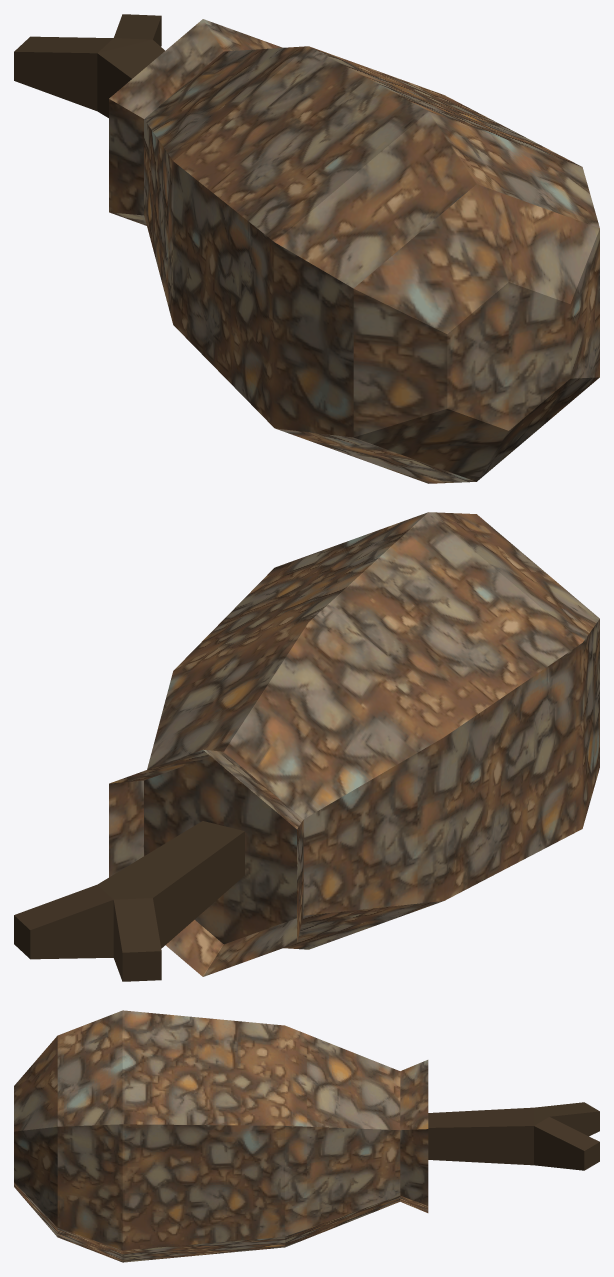
File: burnt-spicy-chicken.fbx
3 renders of one model, top to bottom at view 1: azimuth 30°, elevation 25°; view 2: azimuth 150°, elevation 25°; view 3: azimuth 270°, elevation 25°, orthographic. The views are drawn at different scales.
Parts seen in each view (by area): view 1: mergedBlocks; view 2: mergedBlocks; view 3: mergedBlocks.
Boxes of the visible parts, x1,y1,x2,y2 form: mergedBlocks: (14, 14, 599, 483); mergedBlocks: (14, 512, 599, 981); mergedBlocks: (14, 1010, 599, 1262).
Bounding box in the file's own units: 3.41 × 3.94 × 8.29.
Materials: 2 (1 with a texture image).
